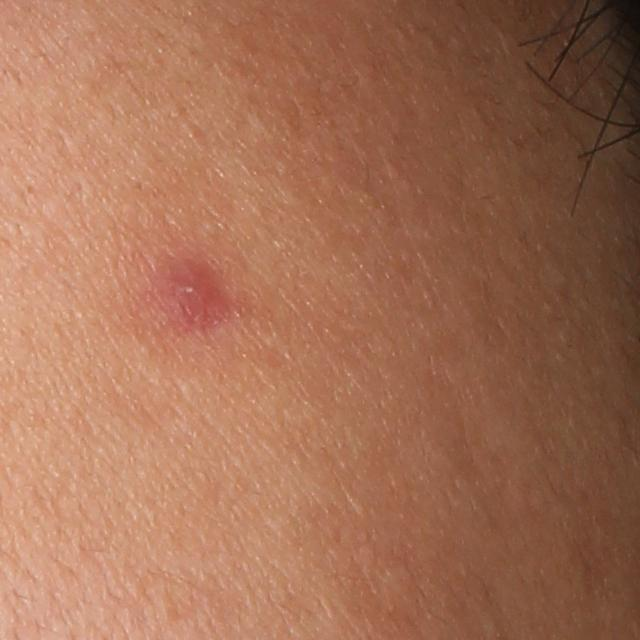papule: (160, 266, 214, 319)
